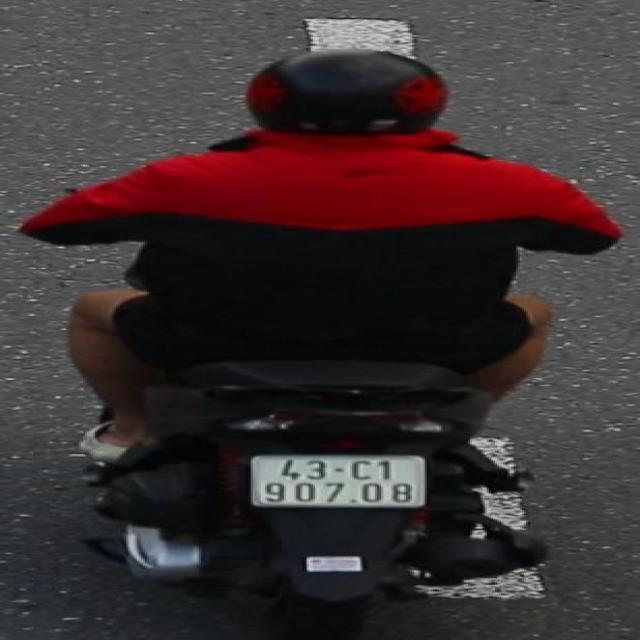LP: (242, 449, 434, 515)
helmet: (233, 44, 461, 143)
